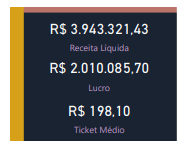

Layout of this report page (visuals, bound fields, positions):
{"tool":"powerbi","page":{"name":"Tooltip","canvas":[250,200],"ordinal":4},"visuals":[{"type":"card","fields":{"Values":["Medidas.04 Lucro Total"]},"box":[17.9,65.4,232.1,69.2],"z":0},{"type":"card","fields":{"Values":["Medidas.21 Ticket Médio"]},"box":[17.9,128.2,232.1,71.8],"z":1000},{"type":"card","fields":{"Values":["Medidas.02 Receita Líquida"]},"box":[17.9,0,232.1,80.8],"z":2000}]}

Visuals, with their boxes in screenshot pixels (x1, y1, x2, y2), scaled from the page's 250x200 canvas onto the 186x148 screenshot:
card - Medidas.04 Lucro Total: (13, 48, 185, 100)
card - Medidas.21 Ticket Médio: (13, 95, 185, 147)
card - Medidas.02 Receita Líquida: (13, 0, 185, 60)
